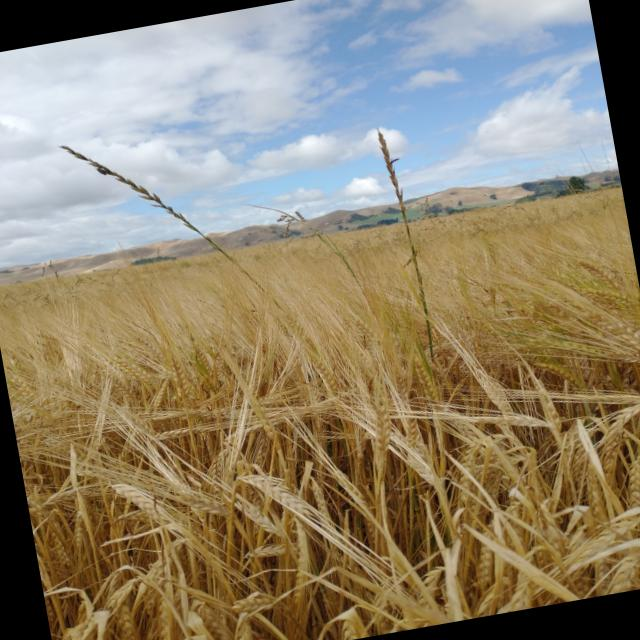Lolium: (46, 107, 276, 317), (368, 125, 431, 329), (247, 186, 357, 298)
